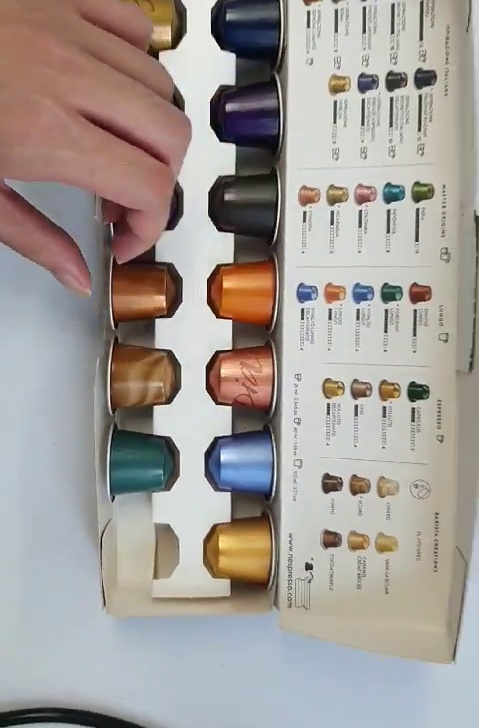capsule_6: (207, 341, 282, 422)
